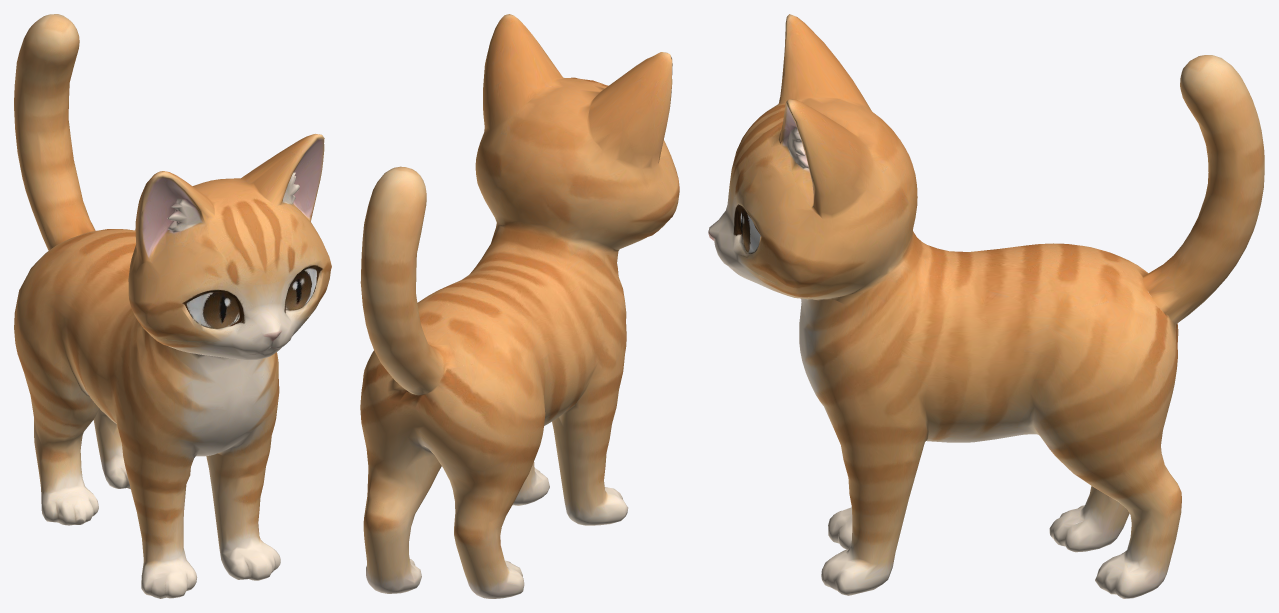
The model's file is cat.glb.
3 views of the same model, side by side, from view 1: azimuth 30°, elevation 25°; view 2: azimuth 150°, elevation 25°; view 3: azimuth 270°, elevation 25° (orthographic). The views are drawn at different scales.
Parts seen in each view (by area): view 1: cat; view 2: cat; view 3: cat.
Boxes of the visible parts, x1,y1,x2,y2 form: cat: (14,14,331,598); cat: (360,14,679,598); cat: (708,14,1264,598).
Size of the model in its own units: 0.4372 by 1 by 0.9945.
Materials: 1 (1 with a texture image).
